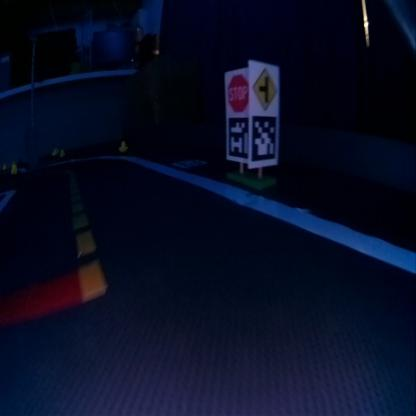Duckie: (118, 140, 128, 152), (10, 162, 17, 173), (60, 150, 64, 156)
Intersection sign: (253, 70, 277, 110)
QR code: (252, 114, 276, 162), (229, 116, 248, 156), (174, 158, 206, 166)
Stop sign: (227, 74, 248, 109)
